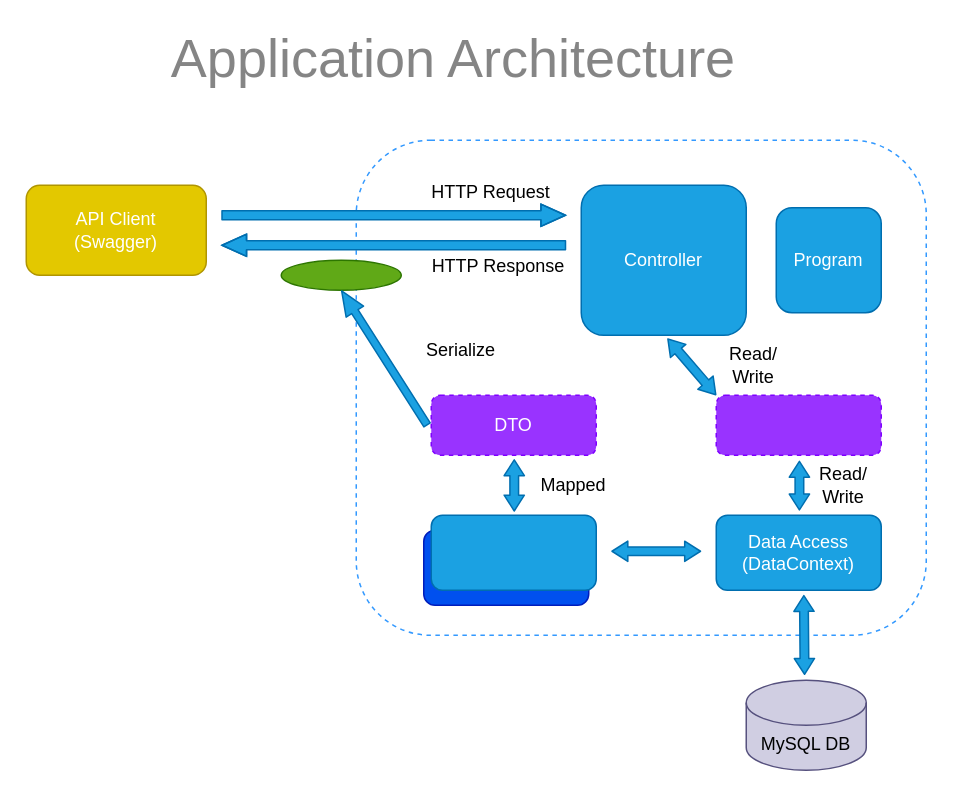
The diagram is 953 pixels wide and 797 high, and some of its shapes have lost their labels. Each missing label, with the centre of its shape:
"JSON" belongs at point (340, 274).
"Model (Commander)" belongs at point (513, 552).
"Repository" belongs at point (798, 424).
